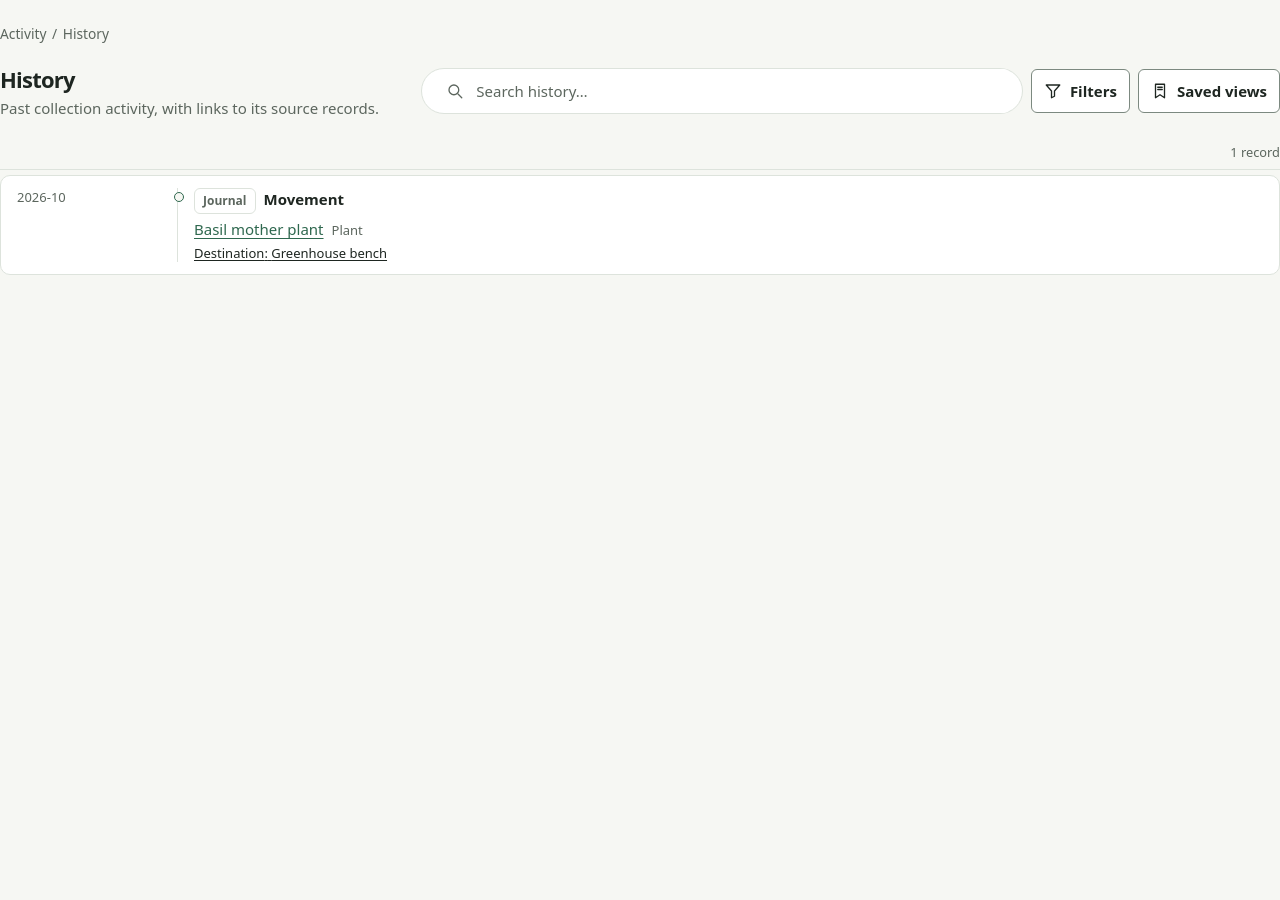
History search is URL-addressable and filter reset preserves it
Check: the heading "Movement" is shown, box [264,188,344,210]
Type "basil" into the search field labelled "Search history".
click(737, 91); type("basil")  # box [464,69,1010,113]
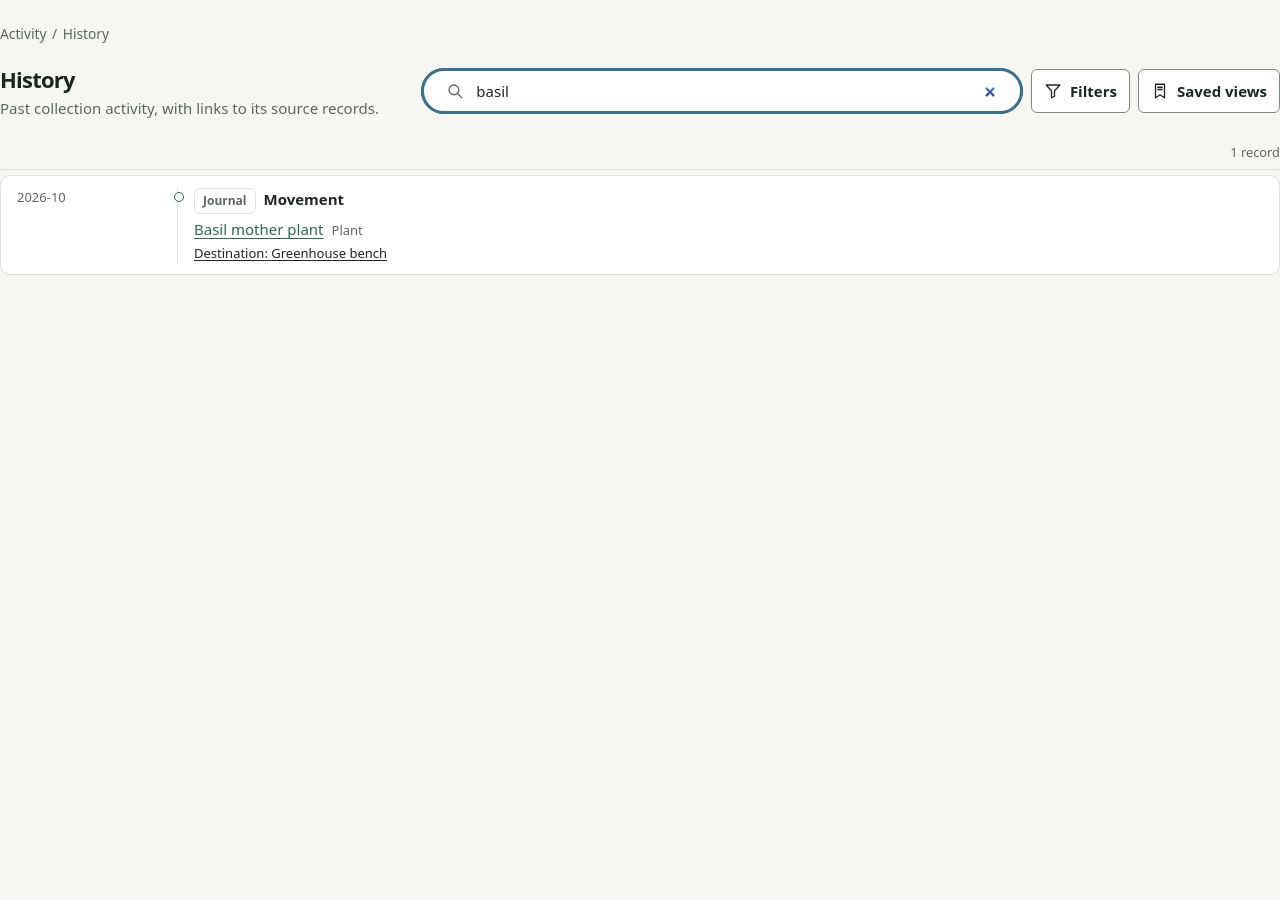
Click the button "Filters".
click(1080, 91)  # box [1031,69,1130,113]
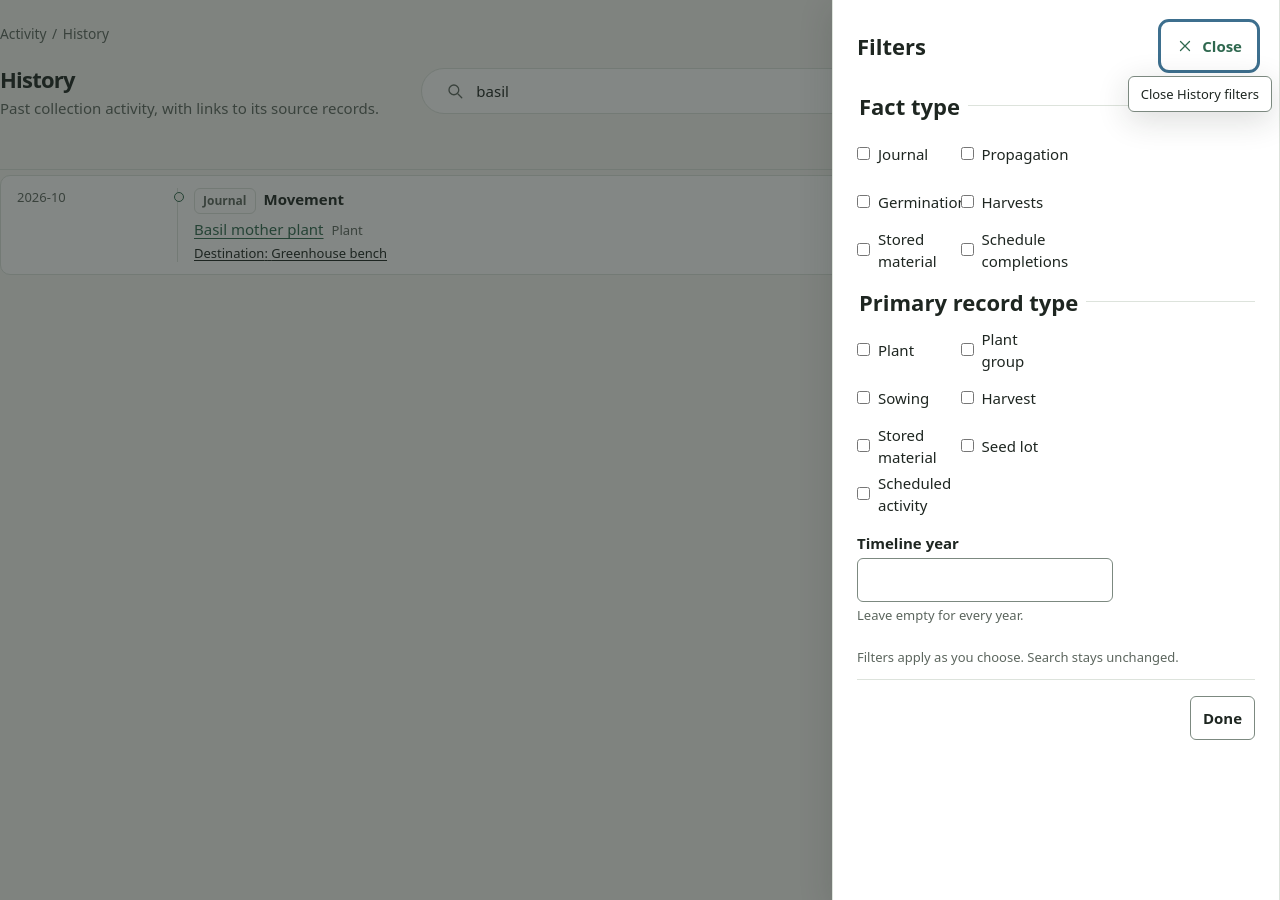
Click the checkbox labelled "Harvests".
click(967, 202)  # box [960,196,974,208]
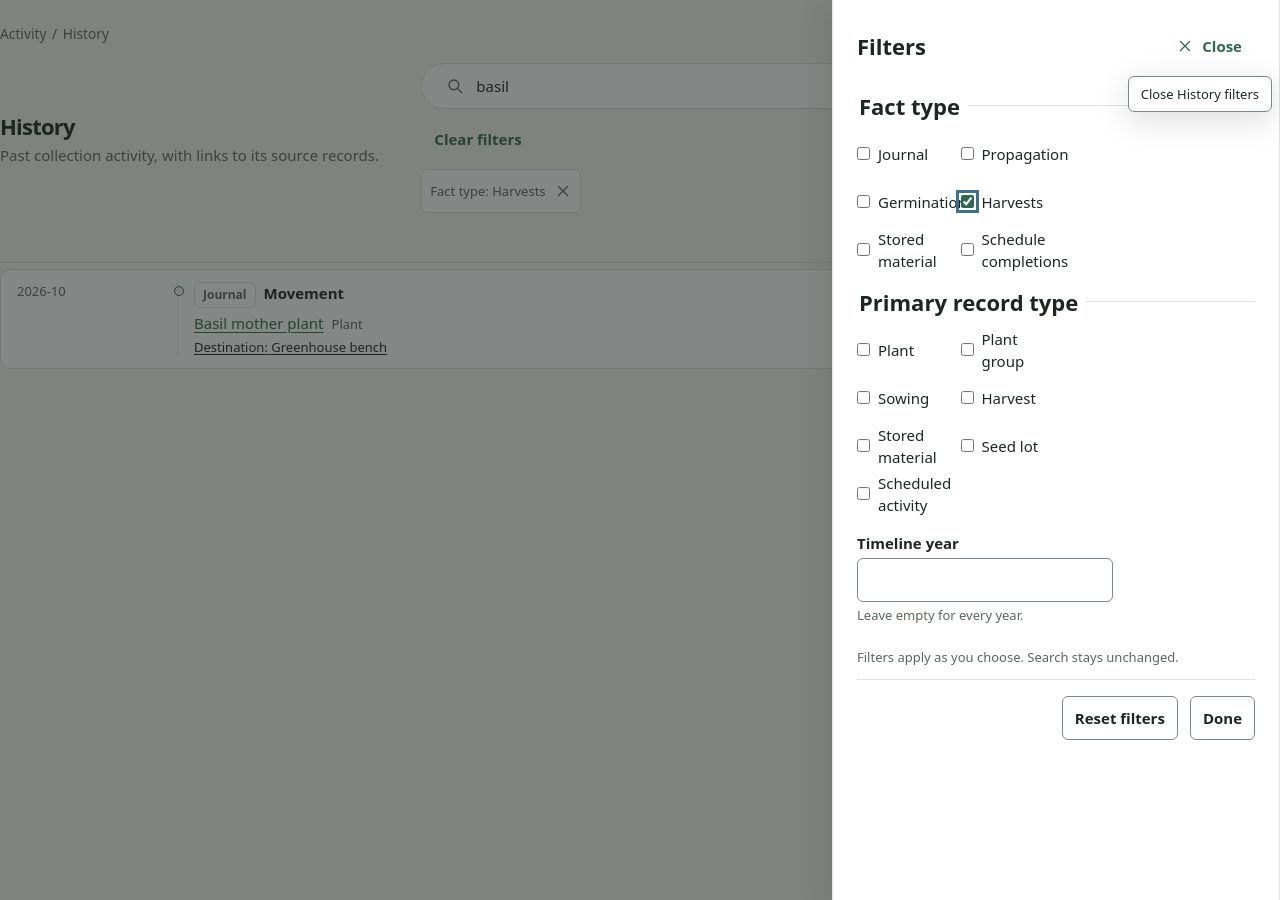
Click the button "Done".
click(1222, 718)  # box [1190,696,1255,740]
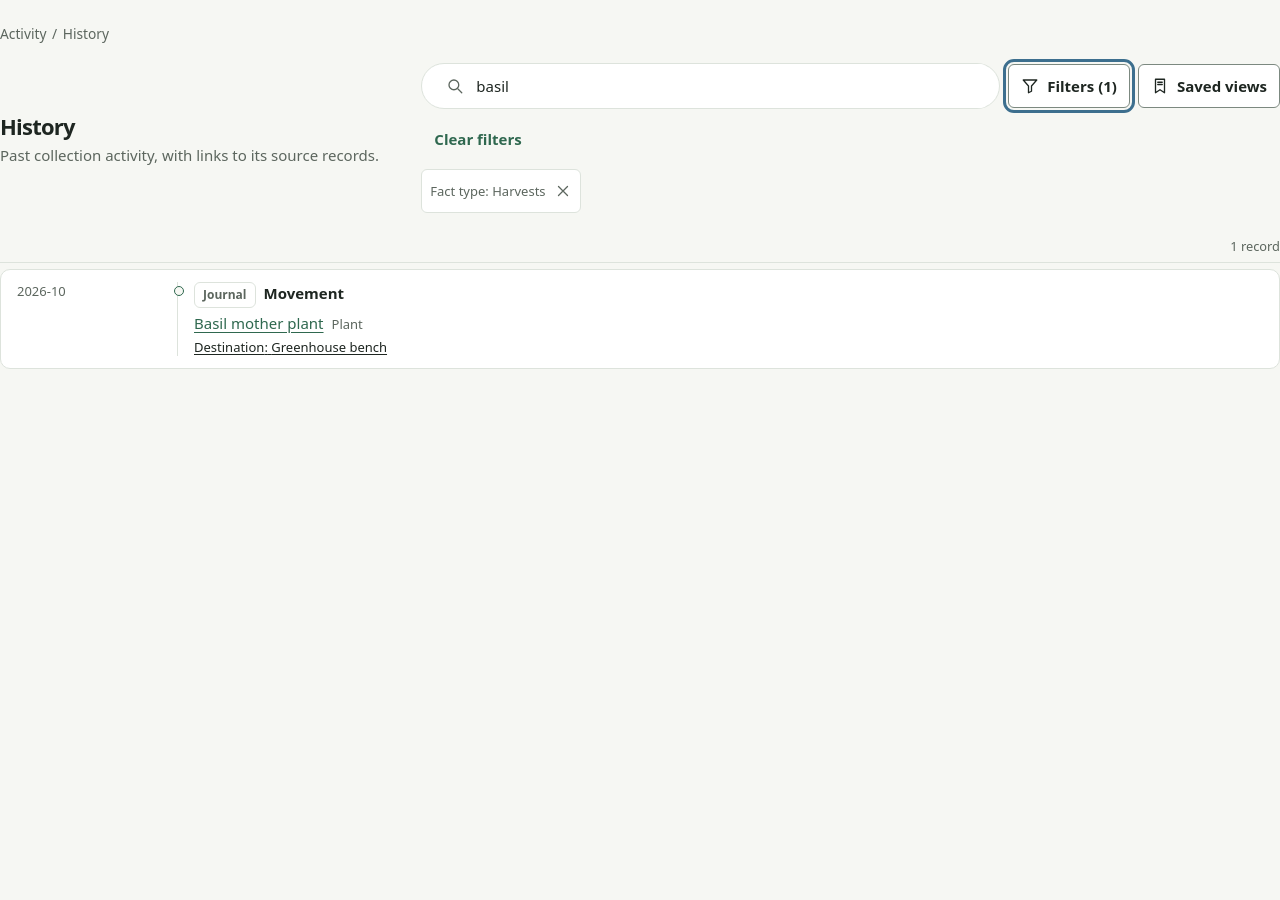
Click the button "Clear filters".
click(478, 139)  # box [421,117,535,161]
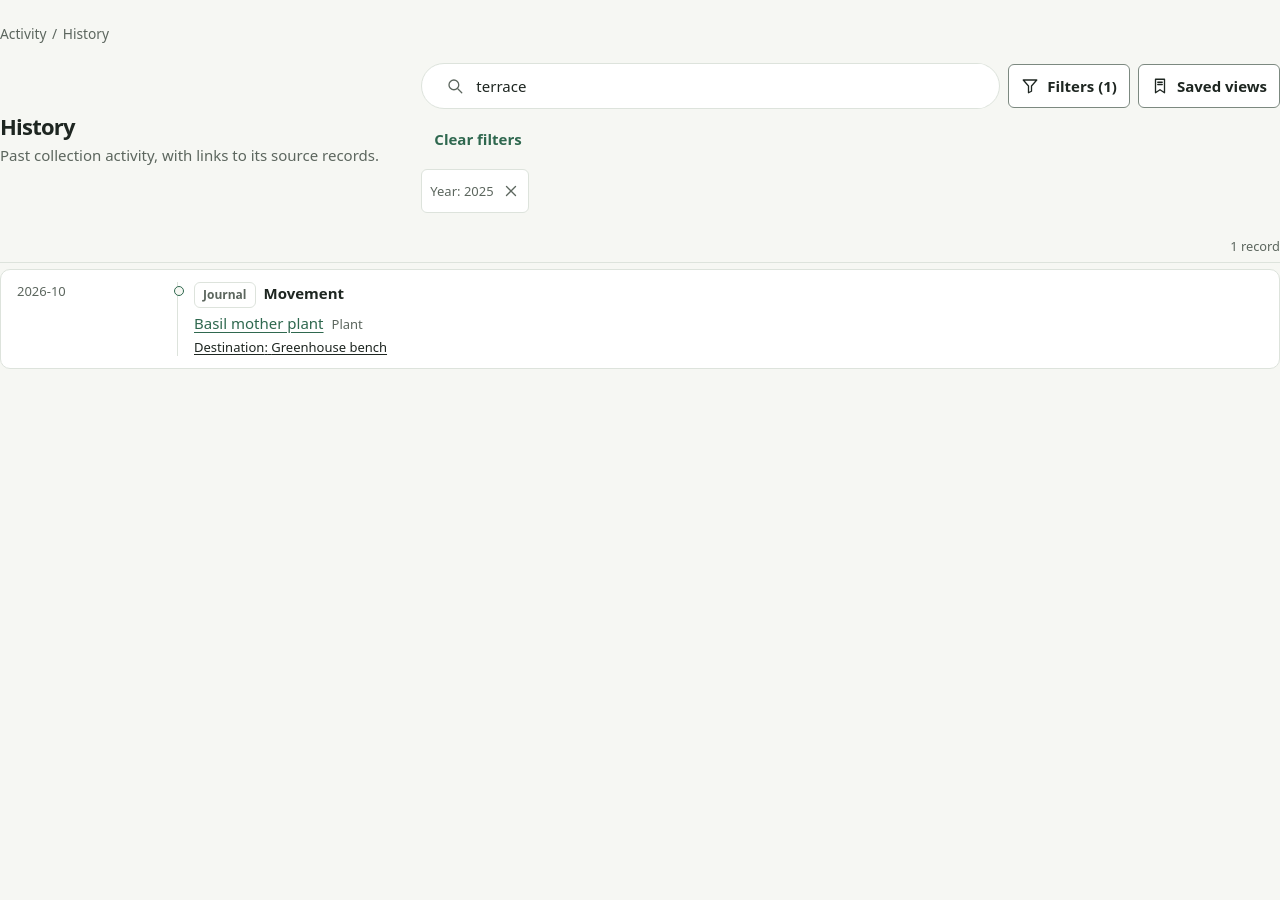
Check: the search field named "Search history" holds "terrace", box [464,64,987,108]
